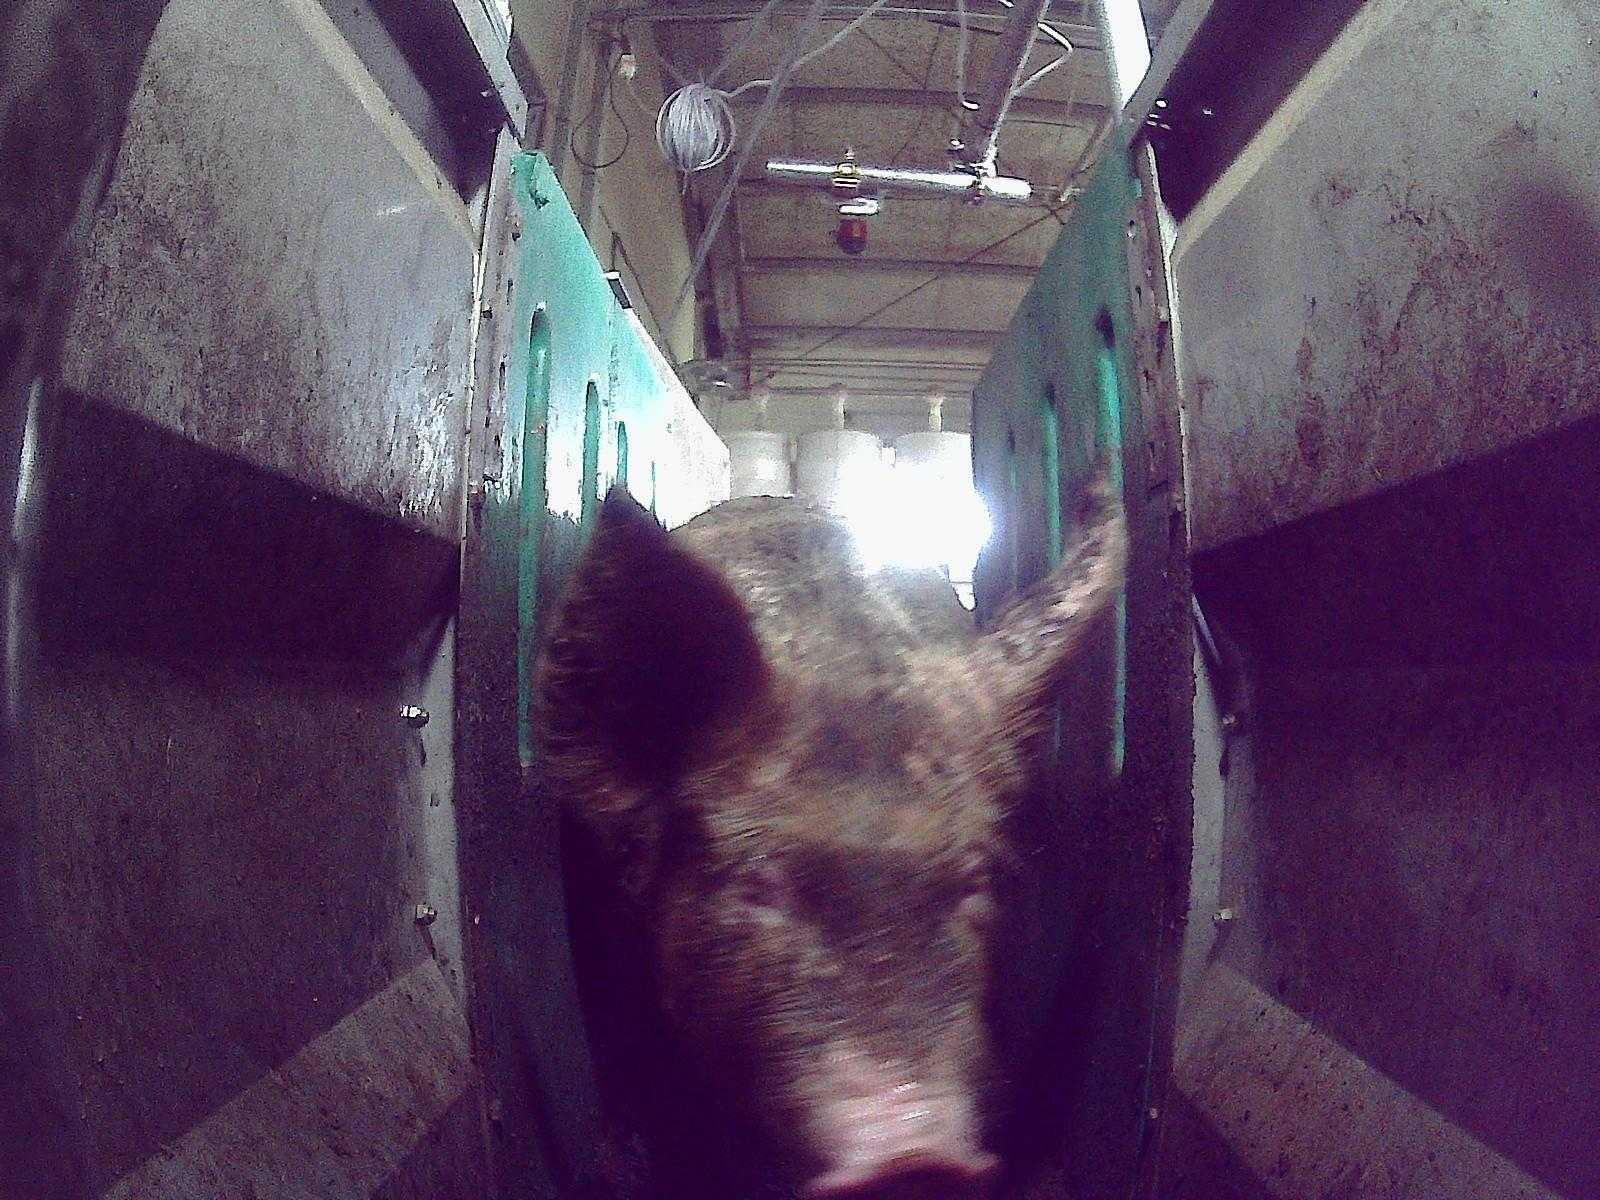Face: (650, 602, 1026, 1199)
